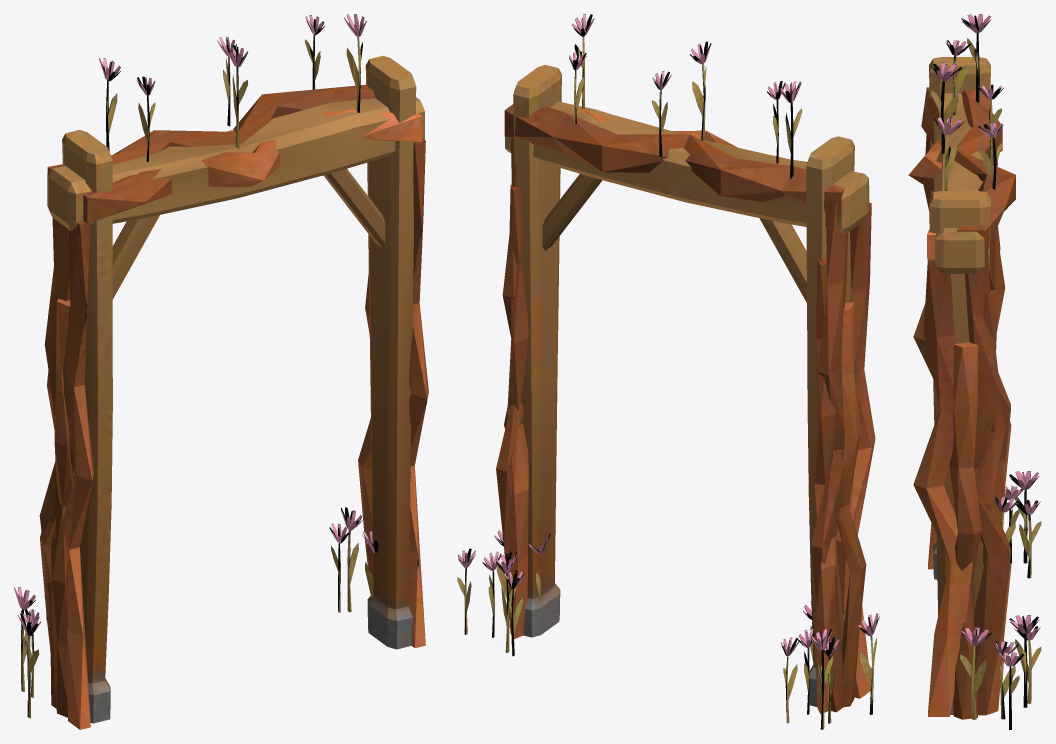
File: arch_vines_low.glb
3 renders of one model, left to right at view 1: azimuth 30°, elevation 25°; view 2: azimuth 150°, elevation 25°; view 3: azimuth 270°, elevation 25°, orthographic. The views are drawn at different scales.
Parts seen in each view (by area): view 1: arch_vines_low; view 2: arch_vines_low; view 3: arch_vines_low.
Part boxes in pixels (bbox=[...]): arch_vines_low: bbox=[14, 14, 428, 729]; arch_vines_low: bbox=[457, 14, 879, 729]; arch_vines_low: bbox=[908, 14, 1041, 729].
Size of the model in its own units: 1.45 by 2.14 by 0.45.
Materials: 1 (1 with a texture image).
